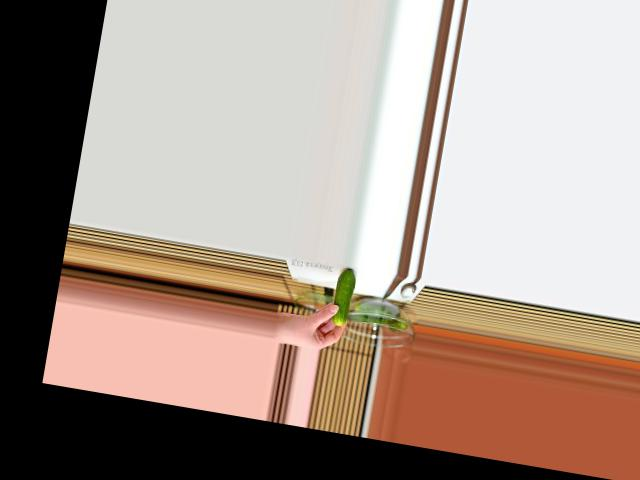cucumber: (329, 267, 357, 327)
